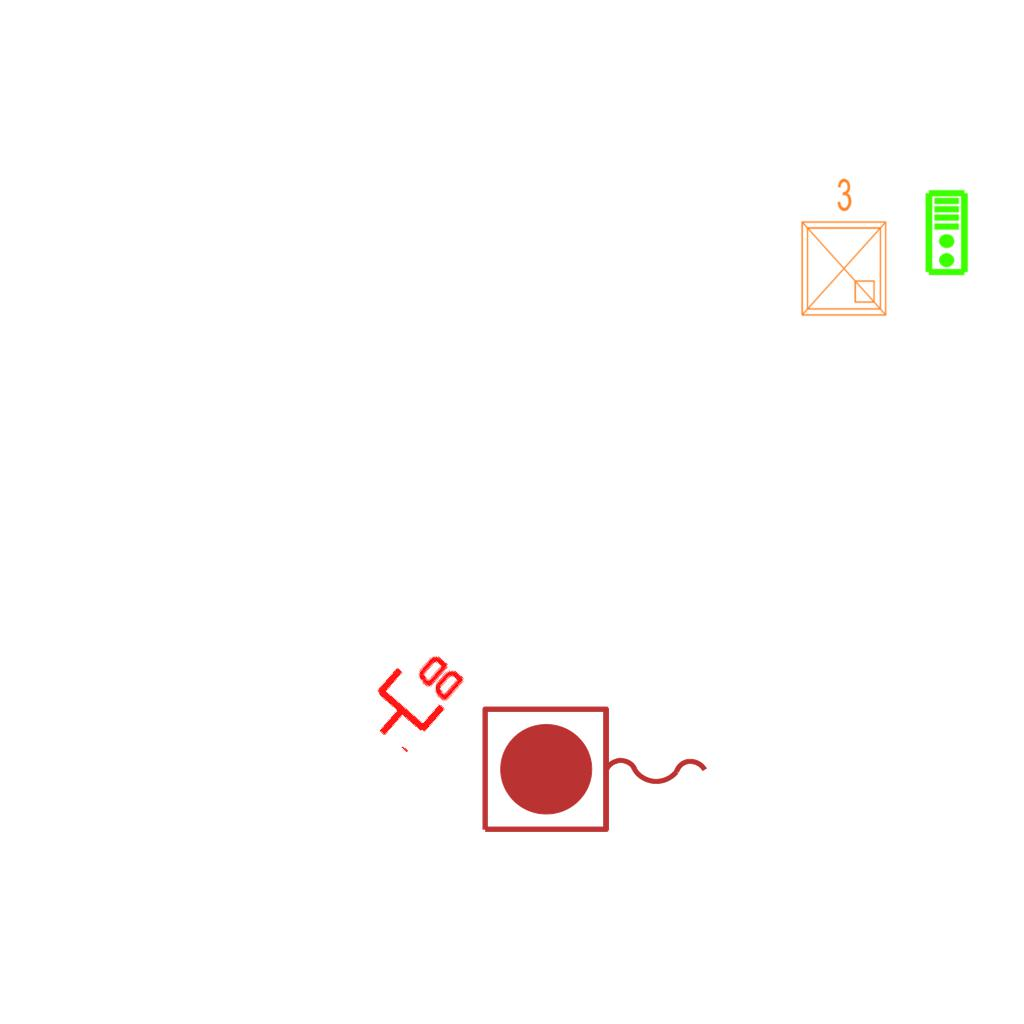Datenanschluss_zweifach: (352, 633, 473, 758)
Einbaudownlights_LED_Konferenzraeume: (790, 173, 894, 323)
Gegensprechanlage_mit_Video: (924, 189, 971, 277)
Zugtaster: (474, 699, 718, 843)
